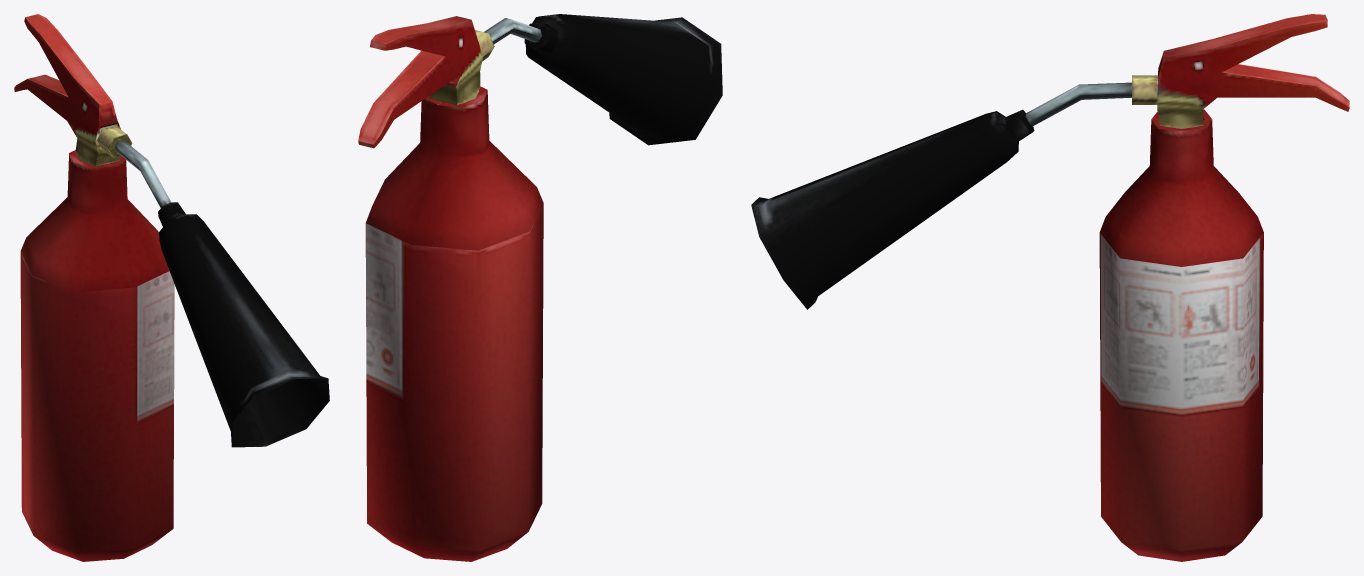
Rendered from fire_extinguisher_model.obj.
The picture shows the model from 3 angles, left to right: view 1: azimuth 30°, elevation 25°; view 2: azimuth 150°, elevation 25°; view 3: azimuth 270°, elevation 25°; orthographic projection. The views are drawn at different scales.
Visible parts, largest first — view 1: fire_extinguisher_mdl; view 2: fire_extinguisher_mdl; view 3: fire_extinguisher_mdl.
Part boxes in pixels (left/top/right/bottom): fire_extinguisher_mdl: left=14, top=14, right=329, bottom=561; fire_extinguisher_mdl: left=358, top=14, right=722, bottom=561; fire_extinguisher_mdl: left=751, top=14, right=1349, bottom=561.
Size of the model in its own units: 1.78 by 6.22 by 6.47.
Materials: 1 (1 with a texture image).
